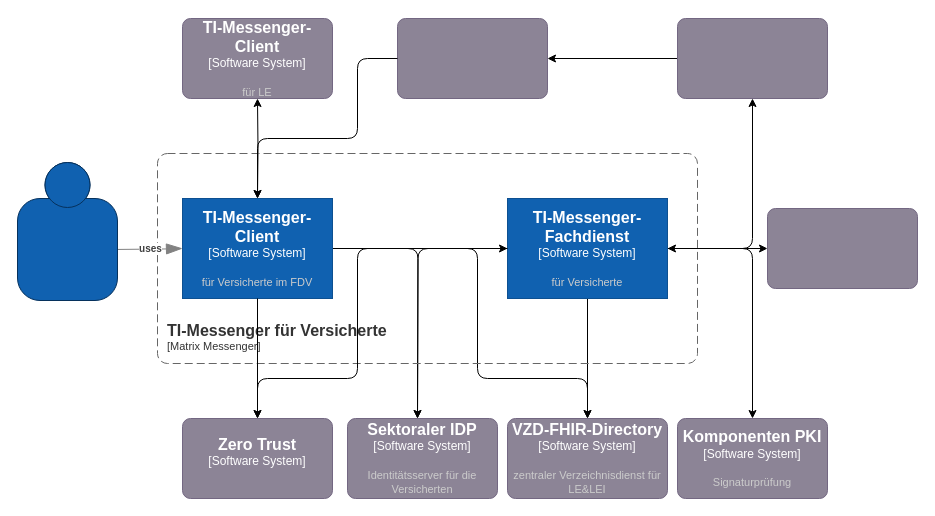
Image size: 935x516. Some labels were removed from this diagram. The centre of each missing label's shape, as x and y in pixels:
"Push-Gateway [Software System] Push-Gateway" belongs at (x=752, y=58).
"Push-Provider [Software System] z.B. FCM, APN" belongs at (x=472, y=58).
"TI-Messenger-Fachdienst [Software System] für LEI und KT" belongs at (x=842, y=248).
"Versicherter [Person] Versicherter bei einer Krankenkasse" belongs at (x=67, y=231).
